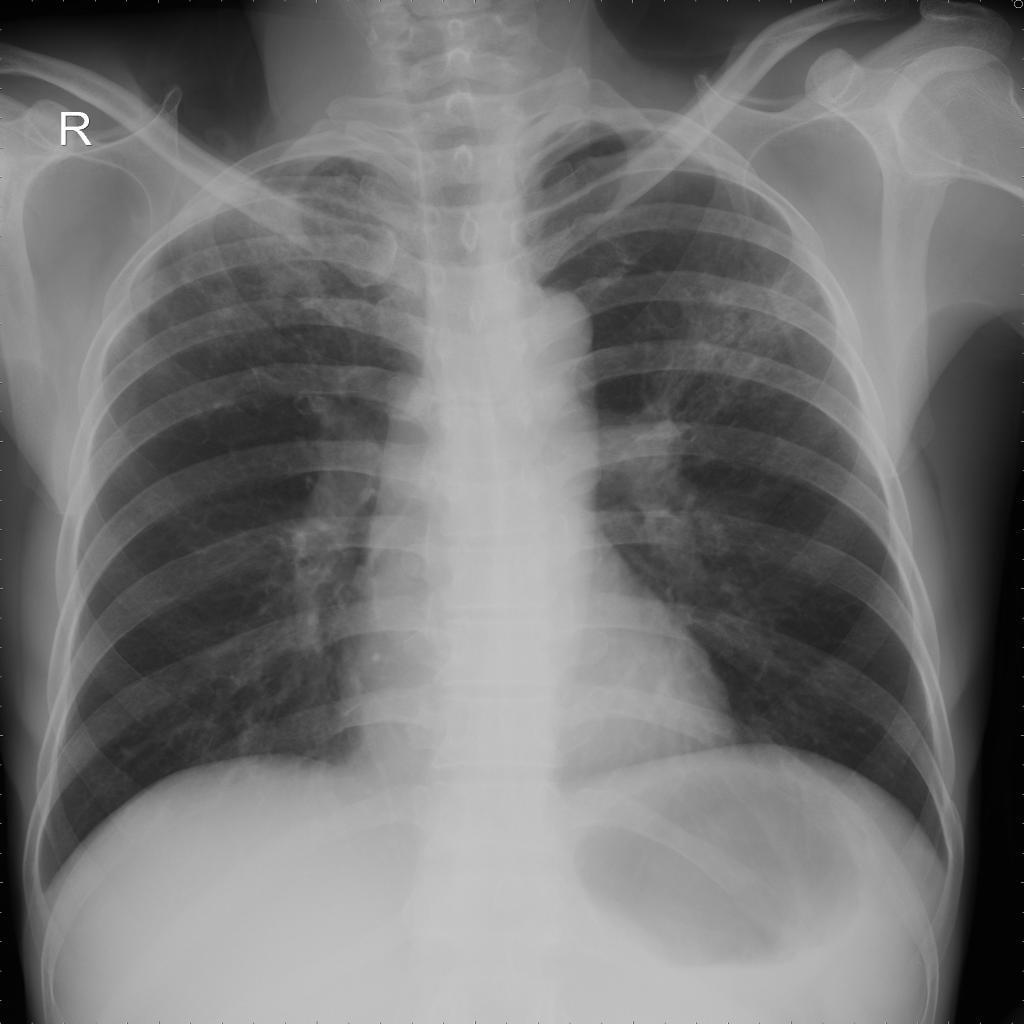Nodule: (136, 158, 391, 387)
